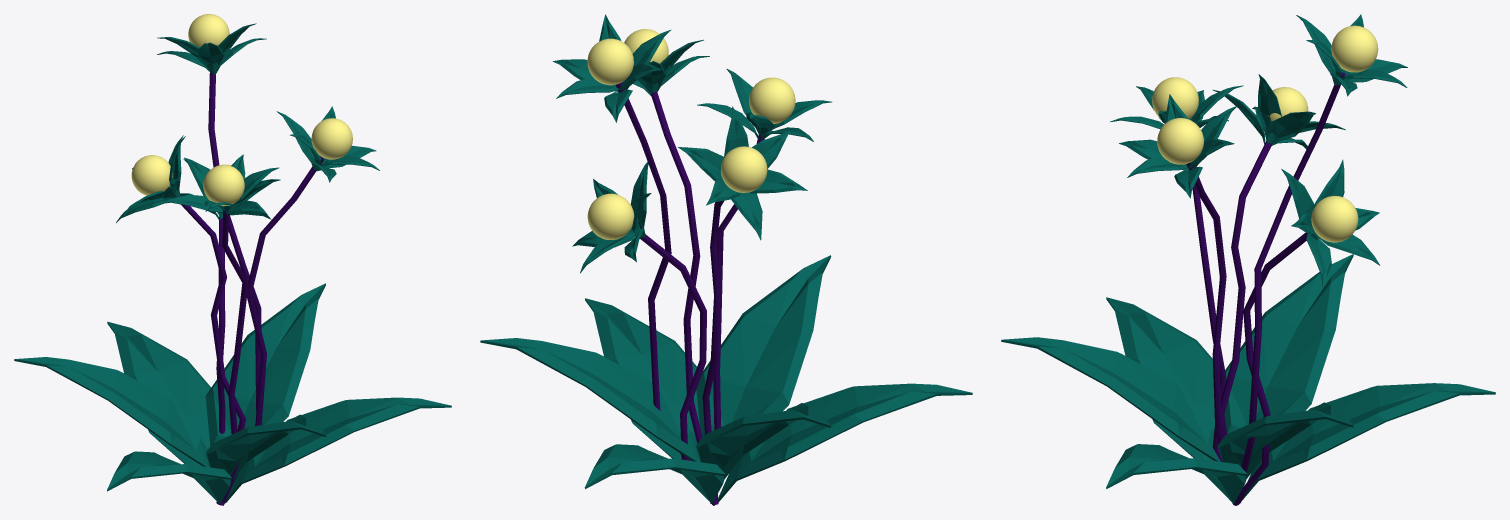
File: Bulbplant_2.fbx
3 views of the same model, side by side, from view 1: azimuth 30°, elevation 25°; view 2: azimuth 150°, elevation 25°; view 3: azimuth 270°, elevation 25° (orthographic). The views are drawn at different scales.
Parts seen in each view (by area): view 1: BulbPlant_2; view 2: BulbPlant_2; view 3: BulbPlant_2.
Part boxes in pixels (x1,y1,x2,y2): BulbPlant_2: (14,14,451,505); BulbPlant_2: (480,14,972,505); BulbPlant_2: (1001,14,1495,505).
Size of the model in its own units: 125 by 153 by 137.
